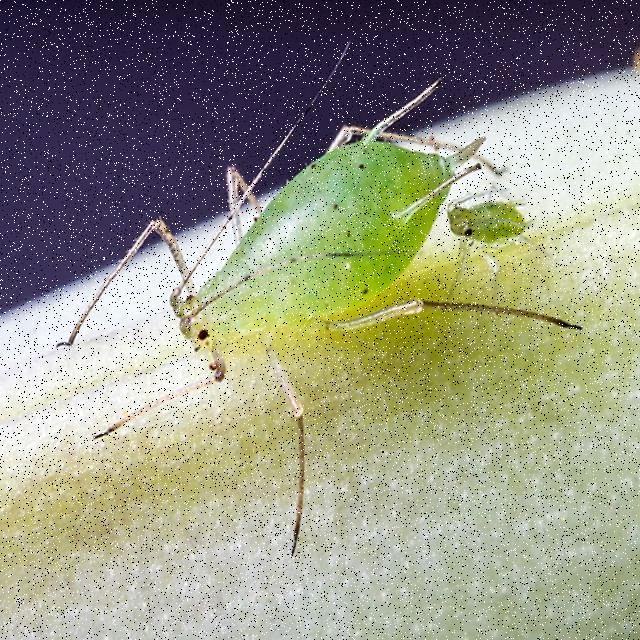Aphids: (122, 112, 449, 460), (426, 172, 554, 296)
